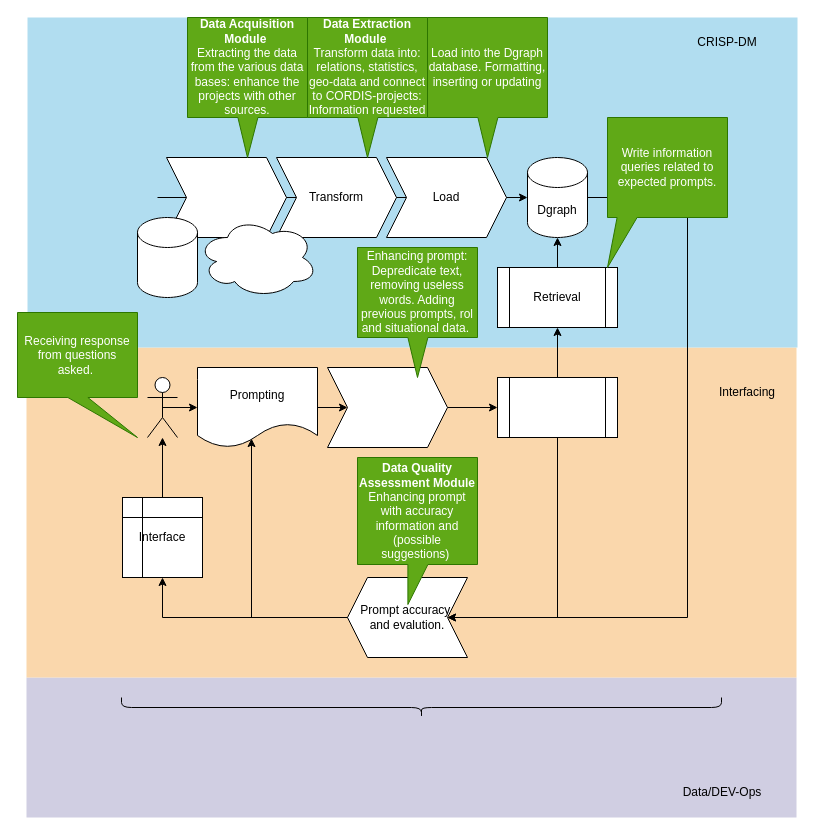
This 815x835 diagram has some shape labels left out. Each missing label, with the centre of its shape:
API's: the point at 257,257
CVS: the point at 167,257
Deployment en monitoring module: the point at 421,707
Extract: the point at 226,197
LLM: the point at 557,407
Prompt enhancement: the point at 387,407
User: the point at 162,407
